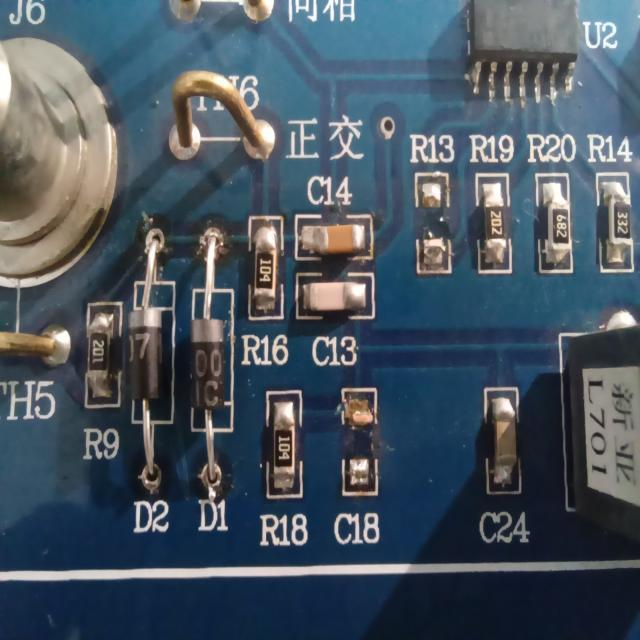Missing component: (330, 375, 390, 554), (402, 118, 464, 284)
